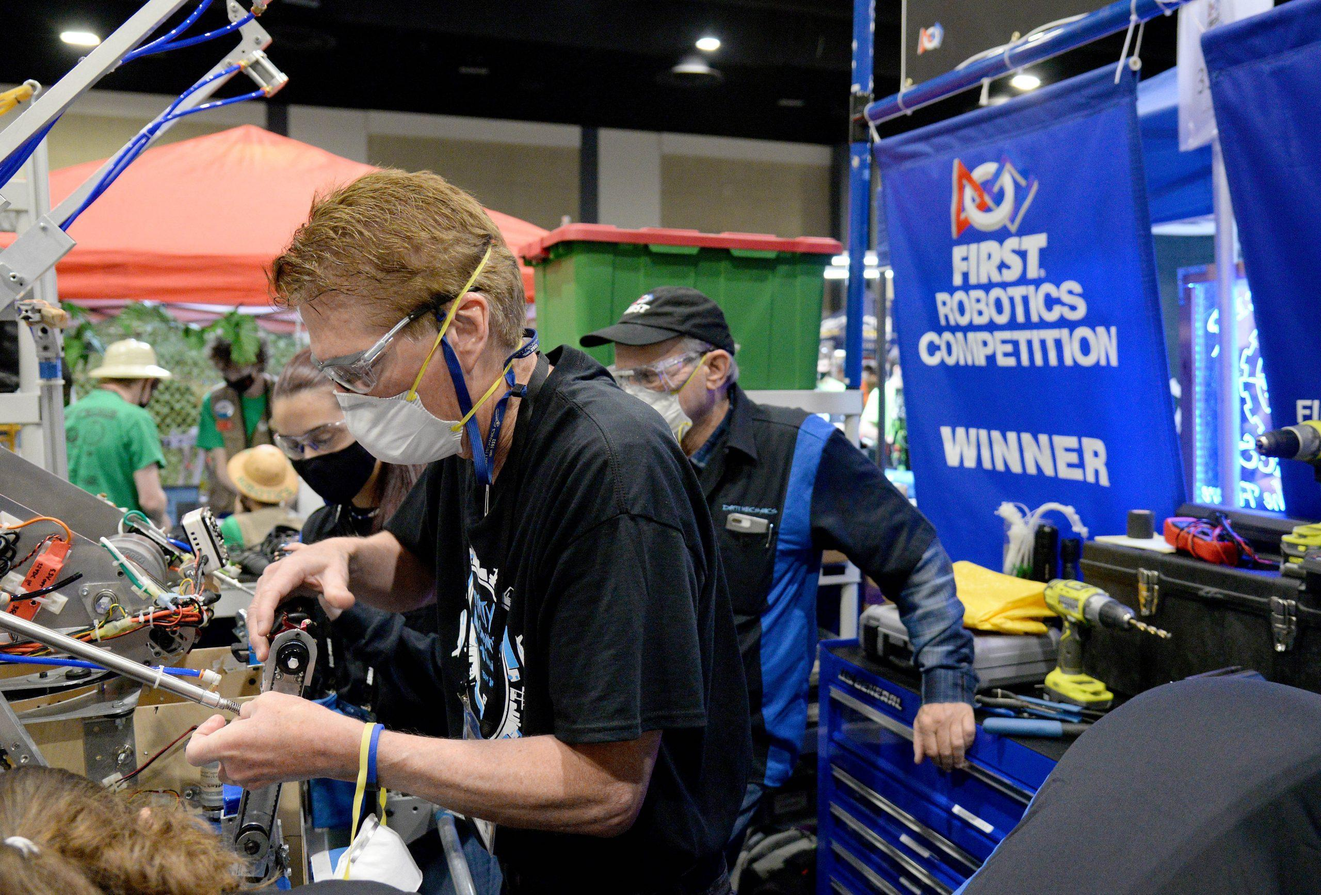robot: (0, 0, 333, 895)
